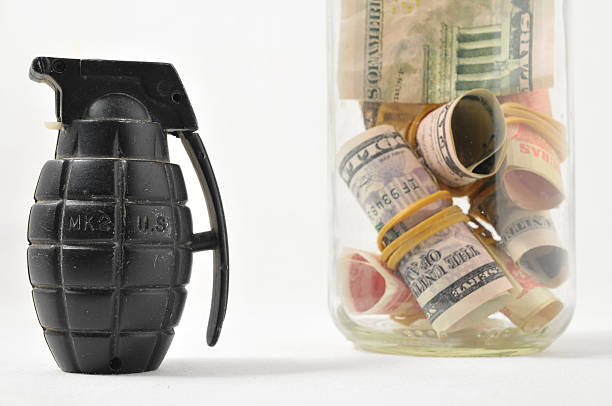e1: (27, 56, 229, 378)
